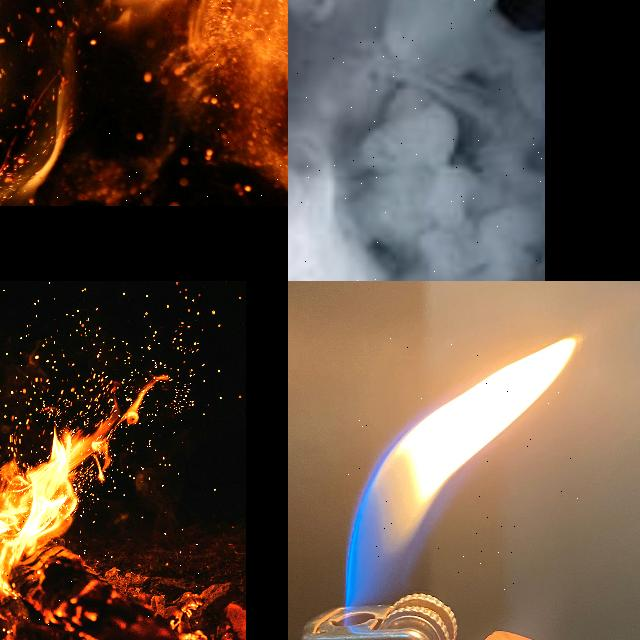fire: (347, 337, 578, 607), (0, 0, 288, 207), (0, 404, 246, 640)
smoke: (288, 0, 544, 281)
